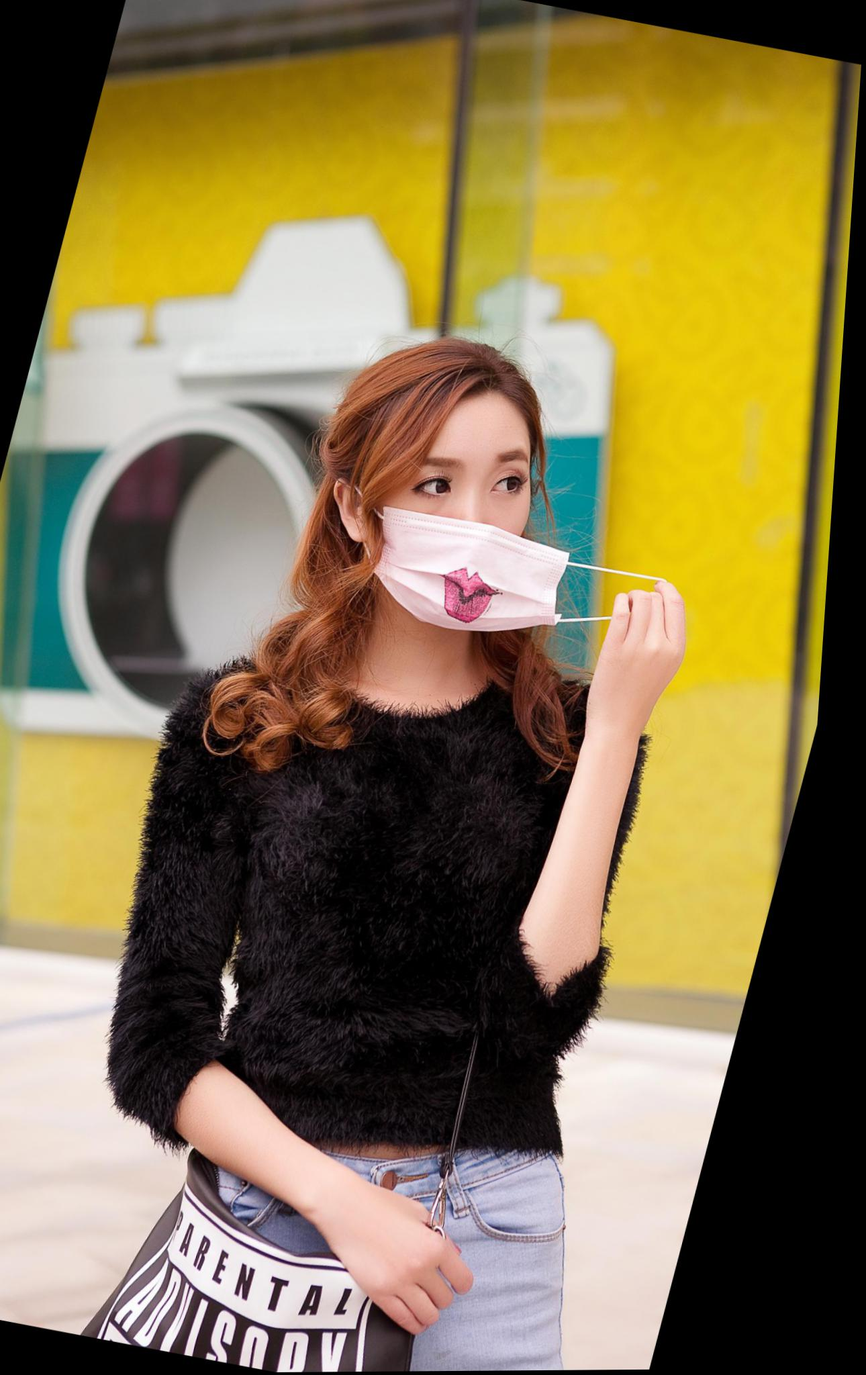WRONG: (332, 413, 571, 641)
